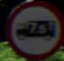Heavy Vehicles: (7, 7, 58, 48)
